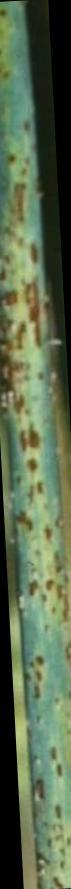Wheat: (26, 630, 71, 855), (13, 456, 71, 601), (5, 246, 46, 445), (0, 5, 26, 233)
